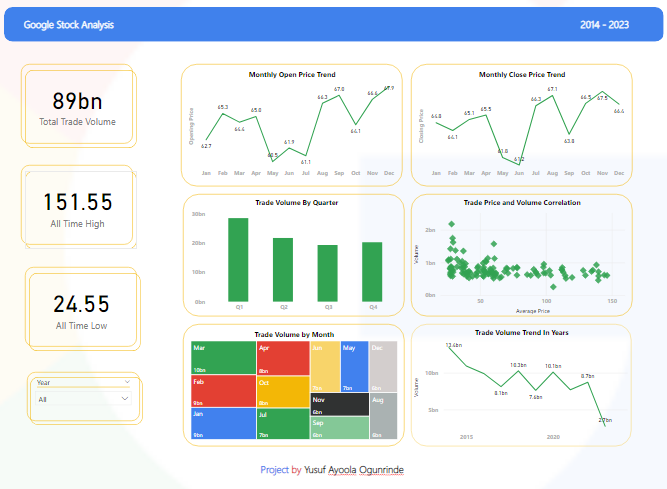

This screenshot's page, from the dashboard's own definition file:
{"tool":"powerbi","page":{"name":"Report","canvas":[1280,950],"ordinal":1},"visuals":[{"type":"shape","box":[15.2,24.7,1251.5,66.4],"z":0},{"type":"card","fields":{"Values":["key_measures_table.Total Trades"]},"box":[48.2,131.8,212.2,151.3],"z":0,"group":"g1"},{"type":"card","fields":{"Values":["key_measures_table.All Time High"]},"box":[48.2,324.5,212.2,150.7],"z":0,"group":"g2"},{"type":"card","fields":{"Values":["key_measures_table.All Time Low"]},"box":[55.3,517.4,212.2,150.7],"z":0,"group":"g3"},{"type":"textbox","box":[48.2,34,239.6,48.2],"z":1000},{"type":"shape","box":[56,143.4,212.2,148.4],"z":1000,"group":"g1"},{"type":"shape","box":[56,336.1,212.2,147.8],"z":1000,"group":"g2"},{"type":"shape","box":[63.1,529,212.2,147.8],"z":1000,"group":"g3"},{"type":"textbox","box":[1029.1,34,175.8,48.2],"z":2000},{"type":"shape","box":[63.8,725.7,214.3,91.4],"z":3000},{"type":"slicer","fields":{"Values":["google_stock_monthly.Year"]},"box":[58.1,717.3,214.3,93.1],"z":4000},{"type":"lineChart","title":"Monthly Close  Price Trend ","fields":{"Category":["google_stock_monthly.Month"],"Y":["Avg(google_stock_monthly.Close)"]},"box":[786.7,131.8,419.6,232.5],"z":5000},{"type":"lineChart","title":"Monthly Open Price Trend ","fields":{"Category":["google_stock_monthly.Month"],"Y":["Avg(google_stock_monthly.Price)"]},"box":[351.5,131.8,419.6,232.5],"z":6000},{"type":"clusteredColumnChart","title":"Trade Volume By Quarter","fields":{"Y":["Sum(google_stock_monthly.Volume)"],"Category":["google_stock_monthly.Quarter In Full"]},"box":[354.4,378.5,419.6,232.5],"z":7000},{"type":"scatterChart","title":"Trade Price and Volume Correlation","fields":{"X":["google_stock_monthly.Average Price"],"Y":["google_stock_monthly.Volume"]},"box":[786.7,378.5,419.6,232.5],"z":8000},{"type":"treemap","title":"Trade Volume by Month","fields":{"Values":["Sum(google_stock_monthly.Volume)"],"Group":["google_stock_monthly.Month"]},"box":[354.4,625.1,419.6,232.5],"z":9000},{"type":"lineChart","title":"Trade Volume Trend In Years","fields":{"Category":["google_stock_monthly.Year"],"Y":["Sum(google_stock_monthly.Volume)"]},"box":[786.7,625.1,418.2,232.5],"z":10000},{"type":"group","id":"g1","title":"Group 1","box":[48.2,131.8,220,160],"z":11000},{"type":"group","id":"g2","title":"Group 2","box":[48.2,324.5,220,159.4],"z":12000},{"type":"group","id":"g3","title":"Group 3","box":[55.3,517.4,220,159.4],"z":13000},{"type":"textbox","box":[462.7,883.6,354.6,43.6],"z":14000}]}

Visuals, with their boxes in screenshot pixels (x1, y1, x2, y2), scaled from the page's 1280x950 canvas onto the 667x489 screenshot:
shape: bbox(8, 13, 660, 47)
card - key_measures_table.Total Trades: bbox(25, 68, 136, 146)
card - key_measures_table.All Time High: bbox(25, 167, 136, 245)
card - key_measures_table.All Time Low: bbox(29, 266, 139, 344)
textbox: bbox(25, 18, 150, 42)
shape: bbox(29, 74, 140, 150)
shape: bbox(29, 173, 140, 249)
shape: bbox(33, 272, 143, 348)
textbox: bbox(536, 18, 628, 42)
shape: bbox(33, 374, 145, 421)
slicer - google_stock_monthly.Year: bbox(30, 369, 142, 417)
"Monthly Close  Price Trend " lineChart: bbox(410, 68, 629, 188)
"Monthly Open Price Trend " lineChart: bbox(183, 68, 402, 188)
"Trade Volume By Quarter" clusteredColumnChart: bbox(185, 195, 403, 315)
"Trade Price and Volume Correlation" scatterChart: bbox(410, 195, 629, 315)
"Trade Volume by Month" treemap: bbox(185, 322, 403, 441)
"Trade Volume Trend In Years" lineChart: bbox(410, 322, 628, 441)
"Group 1" group: bbox(25, 68, 140, 150)
"Group 2" group: bbox(25, 167, 140, 249)
"Group 3" group: bbox(29, 266, 143, 348)
textbox: bbox(241, 455, 426, 477)
